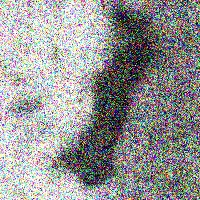patches: (62, 12, 153, 184)
